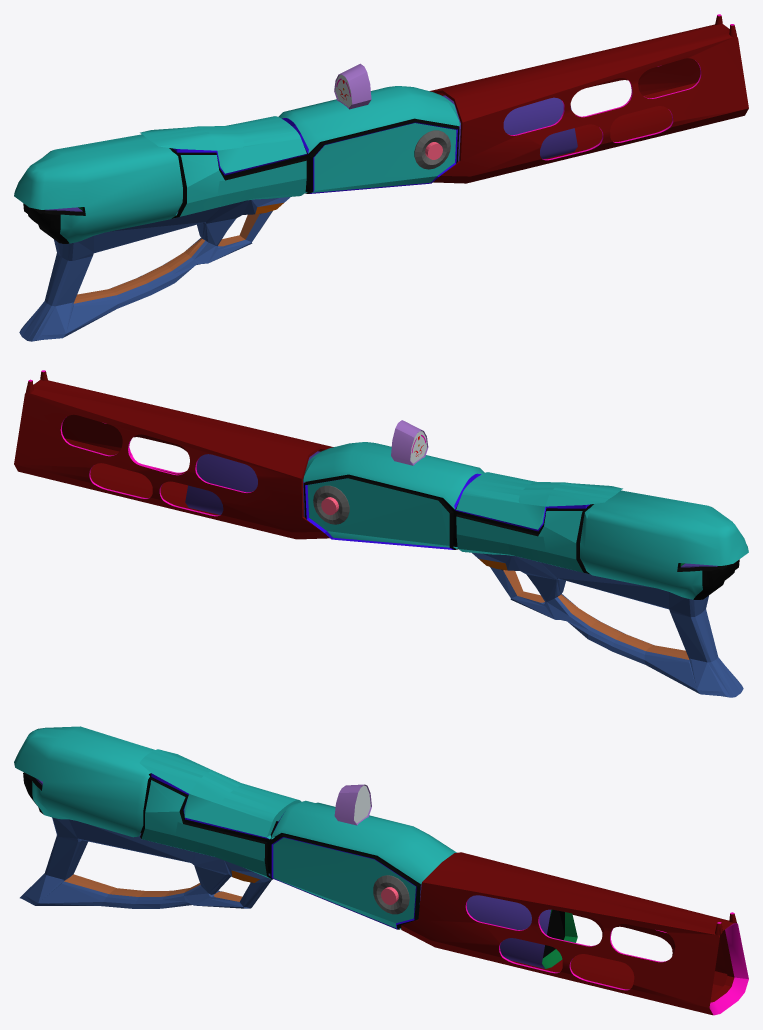
Rendered from Progeny SG V1.FBX.
3 renders of one model, top to bottom at view 1: azimuth 30°, elevation 25°; view 2: azimuth 150°, elevation 25°; view 3: azimuth 330°, elevation 25°, orthographic.
Parts seen in each view (by area): view 1: Barrel Float001, Back Panel v003, Handle001, Side Panels 2 (Ejection)001, Top Panel 2 (Sight)001, Top Panel 002, Side Panels001, Gun Internals001, Cylinder001, Sight v003; view 2: Barrel Float001, Back Panel v003, Handle001, Side Panels 2 (Ejection)001, Top Panel 2 (Sight)001, Top Panel 002, Side Panels001, Gun Internals001, Cylinder001, Sight v003; view 3: Barrel Float001, Back Panel v003, Handle001, Side Panels 2 (Ejection)001, Top Panel 002, Top Panel 2 (Sight)001, Gun Internals001, Side Panels001, Cylinder001, Sight v003.
Boxes of the visible parts, x1=… form: Barrel Float001: x1=429, y1=14, x2=748, y2=183; Back Panel v003: x1=14, y1=134, x2=182, y2=243; Handle001: x1=19, y1=197, x2=290, y2=341; Side Panels 2 (Ejection)001: x1=305, y1=120, x2=459, y2=193; Top Panel 2 (Sight)001: x1=278, y1=86, x2=460, y2=153; Top Panel 002: x1=140, y1=116, x2=307, y2=175; Side Panels001: x1=171, y1=153, x2=306, y2=218; Gun Internals001: x1=45, y1=95, x2=577, y2=211; Cylinder001: x1=414, y1=130, x2=450, y2=169; Sight v003: x1=334, y1=63, x2=371, y2=109; Barrel Float001: x1=14, y1=370, x2=333, y2=539; Back Panel v003: x1=580, y1=490, x2=748, y2=599; Handle001: x1=472, y1=552, x2=743, y2=697; Side Panels 2 (Ejection)001: x1=303, y1=475, x2=457, y2=549; Top Panel 2 (Sight)001: x1=303, y1=442, x2=484, y2=509; Top Panel 002: x1=455, y1=472, x2=622, y2=531; Side Panels001: x1=456, y1=509, x2=590, y2=574; Gun Internals001: x1=185, y1=451, x2=717, y2=567; Cylinder001: x1=313, y1=485, x2=349, y2=524; Sight v003: x1=391, y1=420, x2=428, y2=465; Barrel Float001: x1=401, y1=852, x2=748, y2=1015; Back Panel v003: x1=14, y1=726, x2=154, y2=837; Handle001: x1=20, y1=817, x2=271, y2=908; Side Panels 2 (Ejection)001: x1=270, y1=834, x2=420, y2=929; Top Panel 002: x1=139, y1=749, x2=301, y2=839; Top Panel 2 (Sight)001: x1=270, y1=800, x2=456, y2=884; Gun Internals001: x1=35, y1=773, x2=577, y2=968; Side Panels001: x1=140, y1=777, x2=274, y2=879; Cylinder001: x1=373, y1=875, x2=409, y2=914; Sight v003: x1=334, y1=784, x2=371, y2=825.
Size of the model in its own units: 177 by 45.82 by 19.81.
